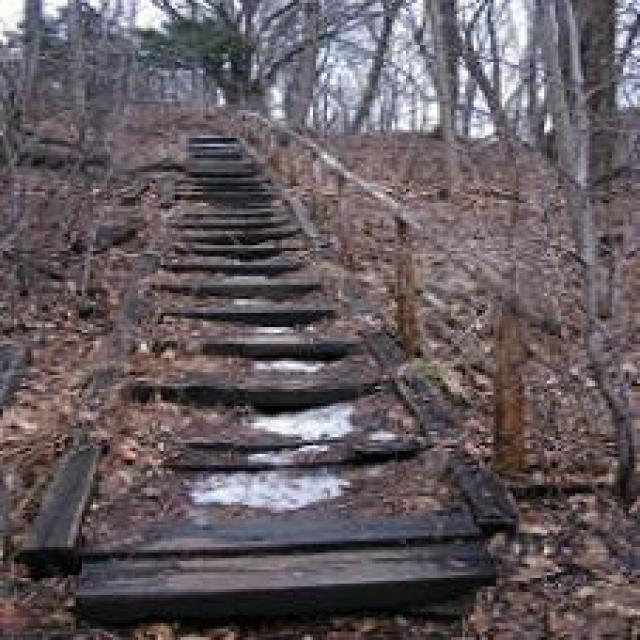upstair: (58, 319, 495, 596)
